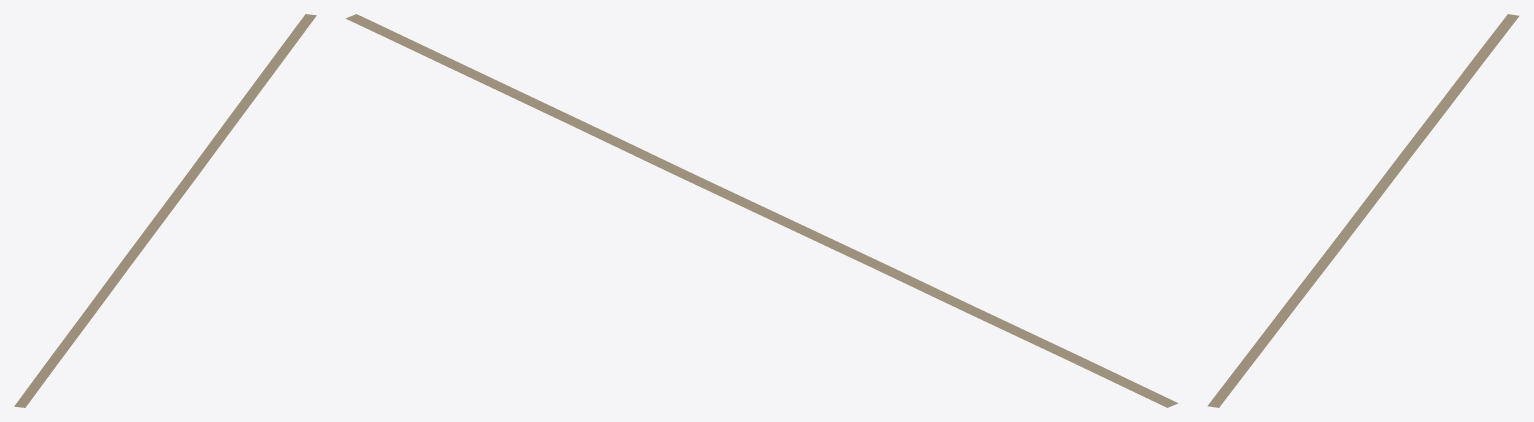
File: farm_12_16_track.glb
3 views of the same model, side by side, from view 1: azimuth 90°, elevation 25°; view 2: azimuth 150°, elevation 25°; view 3: azimuth 270°, elevation 25° (orthographic). The views are drawn at different scales.
Visible parts, largest first — view 1: geometry_0; view 2: geometry_0; view 3: geometry_0.
Part boxes in pixels (x1=…): geometry_0: x1=14, y1=14, x2=316, y2=407; geometry_0: x1=345, y1=14, x2=1178, y2=407; geometry_0: x1=1207, y1=14, x2=1519, y2=407.
Size of the model in its own units: 252 by 1.92 by 83.18.
